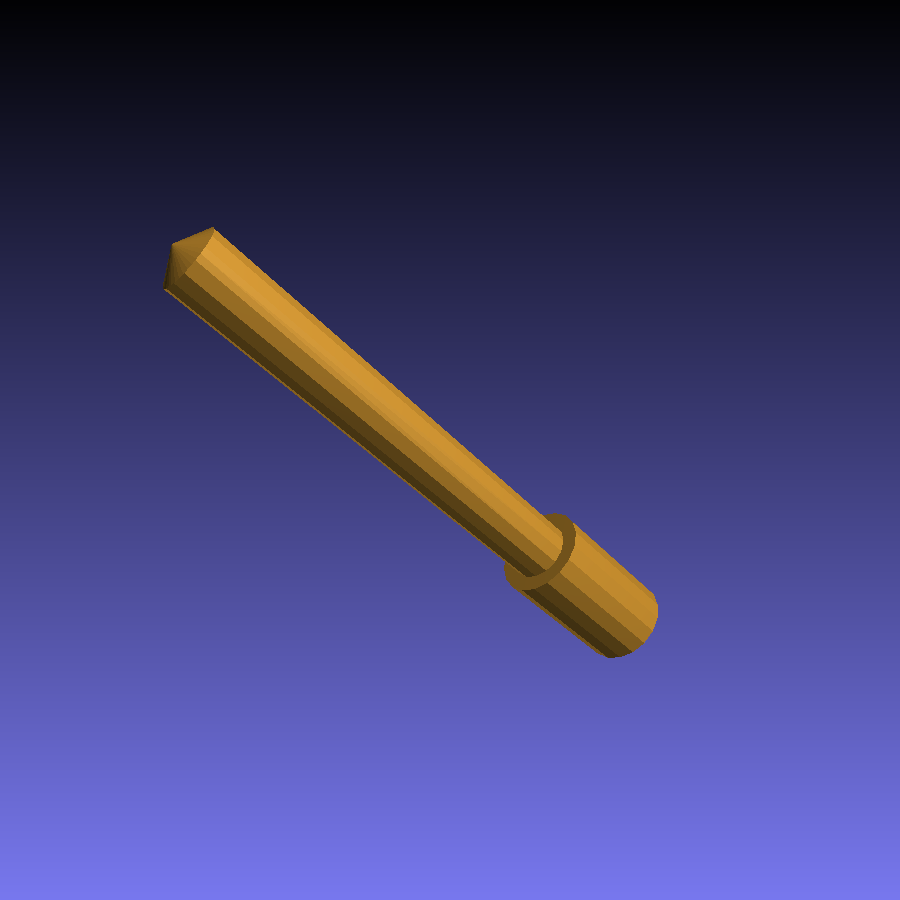cargo_g: (164, 228, 658, 659)
